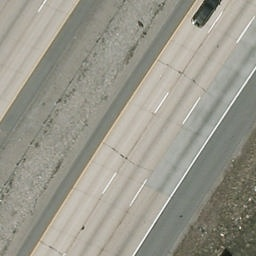car: (190, 0, 221, 30)
